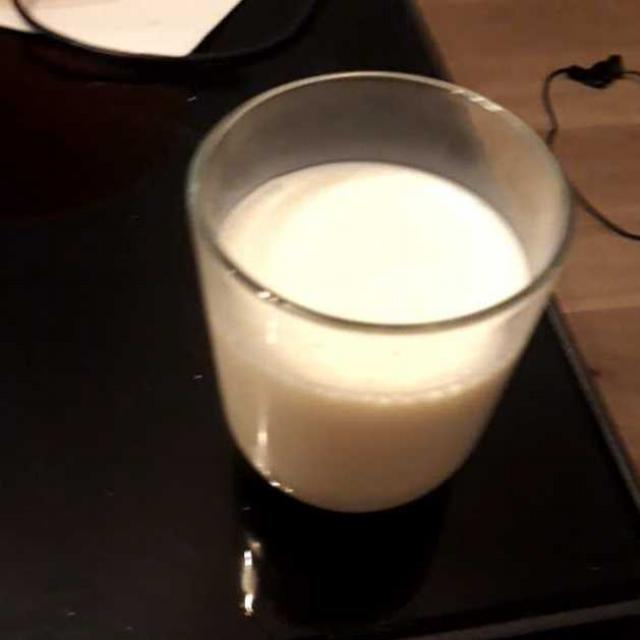milk: (200, 173, 518, 515)
